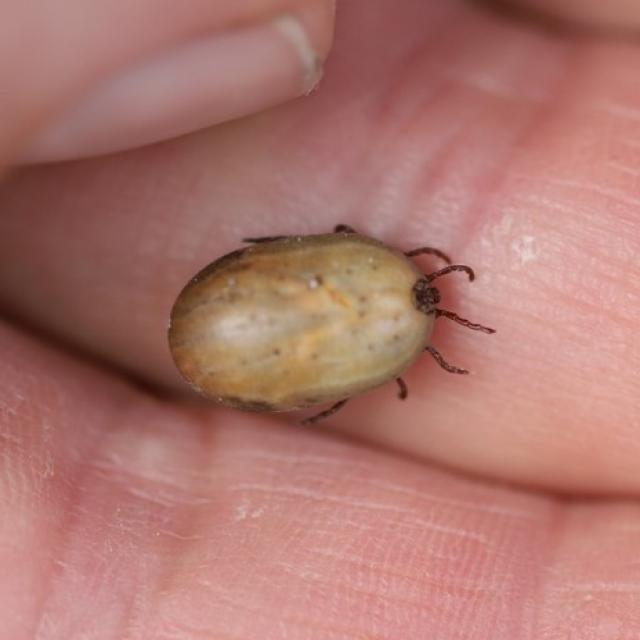Dermacentor Reticulatus-F-Fed: (169, 224, 495, 425)
